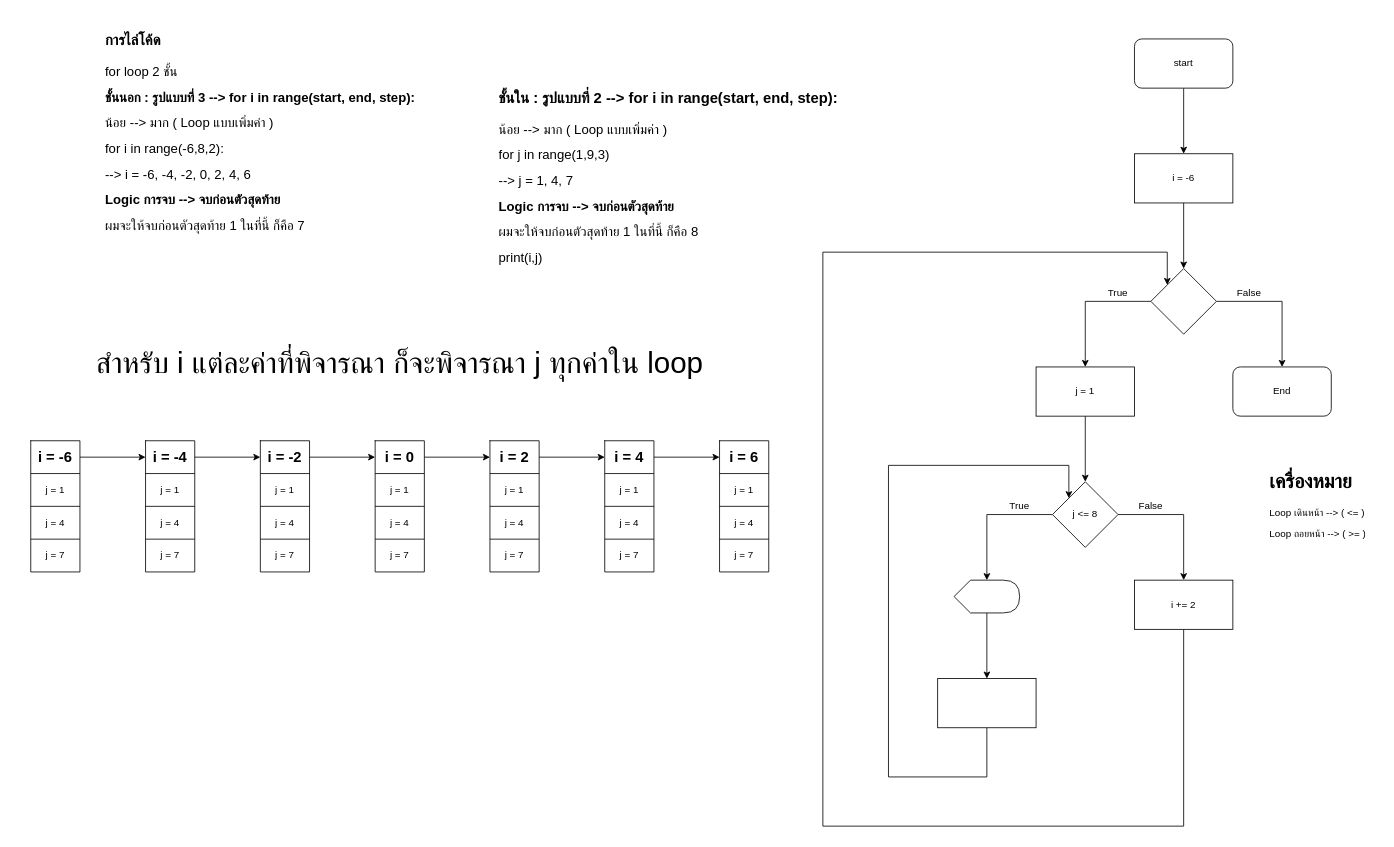
Some shapes in this 1394 by 847 pixel diagram are drawn without their labels. Here are the shapes that lost their labels. From the top down, the box of each, then its label:
(1150, 268, 1216, 334): i <= 7
(953, 579, 1020, 613): i, j
(937, 678, 1036, 728): j += 3
